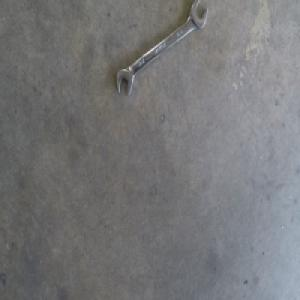Wrench: (116, 0, 208, 95)
